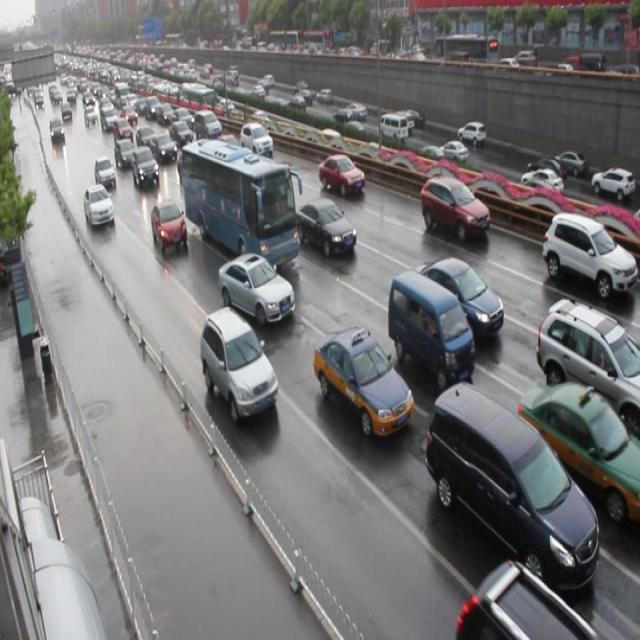car: (515, 380, 640, 522), (533, 296, 640, 436), (451, 553, 596, 640), (310, 322, 409, 435), (540, 209, 640, 304), (200, 305, 280, 422), (410, 256, 502, 340), (218, 251, 296, 323), (418, 172, 490, 244), (296, 197, 356, 257), (318, 151, 365, 199), (151, 199, 188, 254), (83, 184, 115, 228), (238, 121, 274, 159), (130, 145, 159, 189)
truck: (421, 380, 594, 586), (386, 269, 474, 385)
van: (178, 134, 294, 268)
